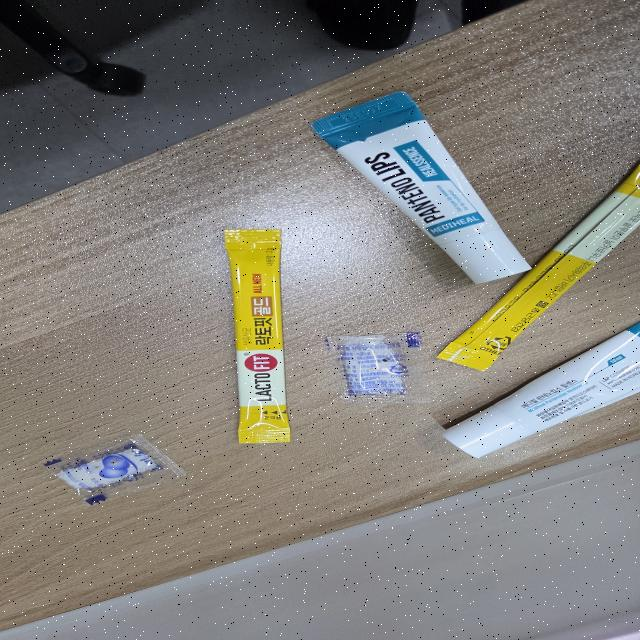lacto: (438, 163, 640, 373), (220, 238, 292, 448)
lib: (308, 91, 537, 288), (431, 322, 640, 458)
salt: (38, 432, 188, 508), (314, 330, 440, 405)
